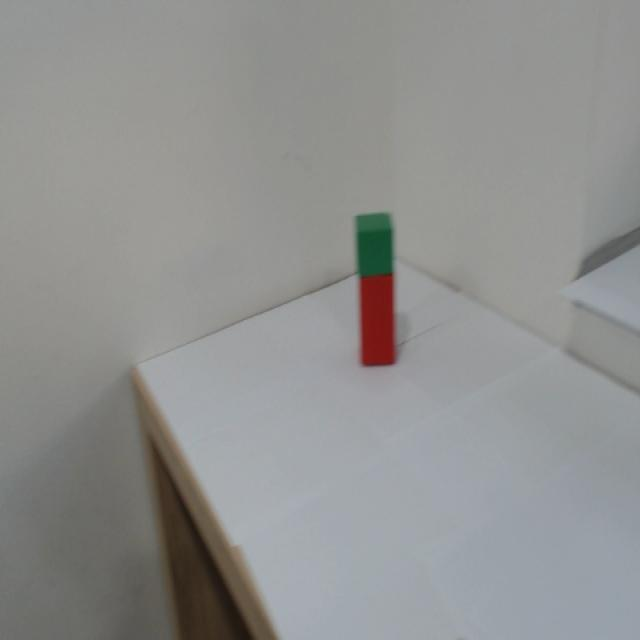cube: (343, 211, 411, 281)
